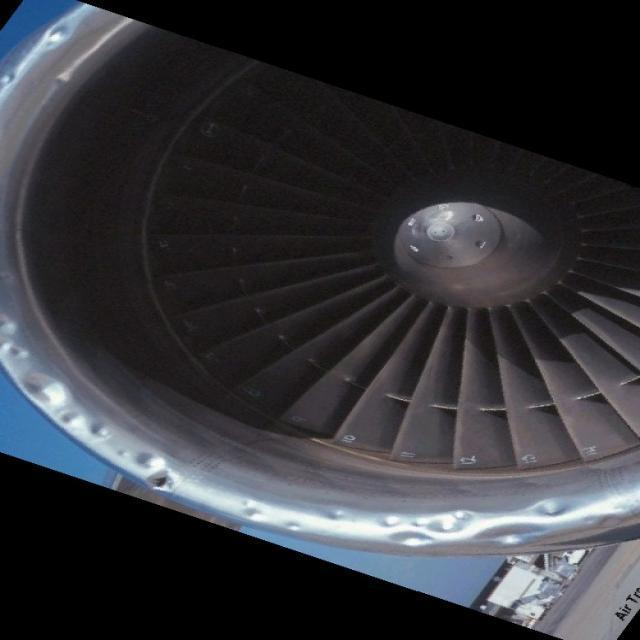dent: (331, 500, 597, 552)
